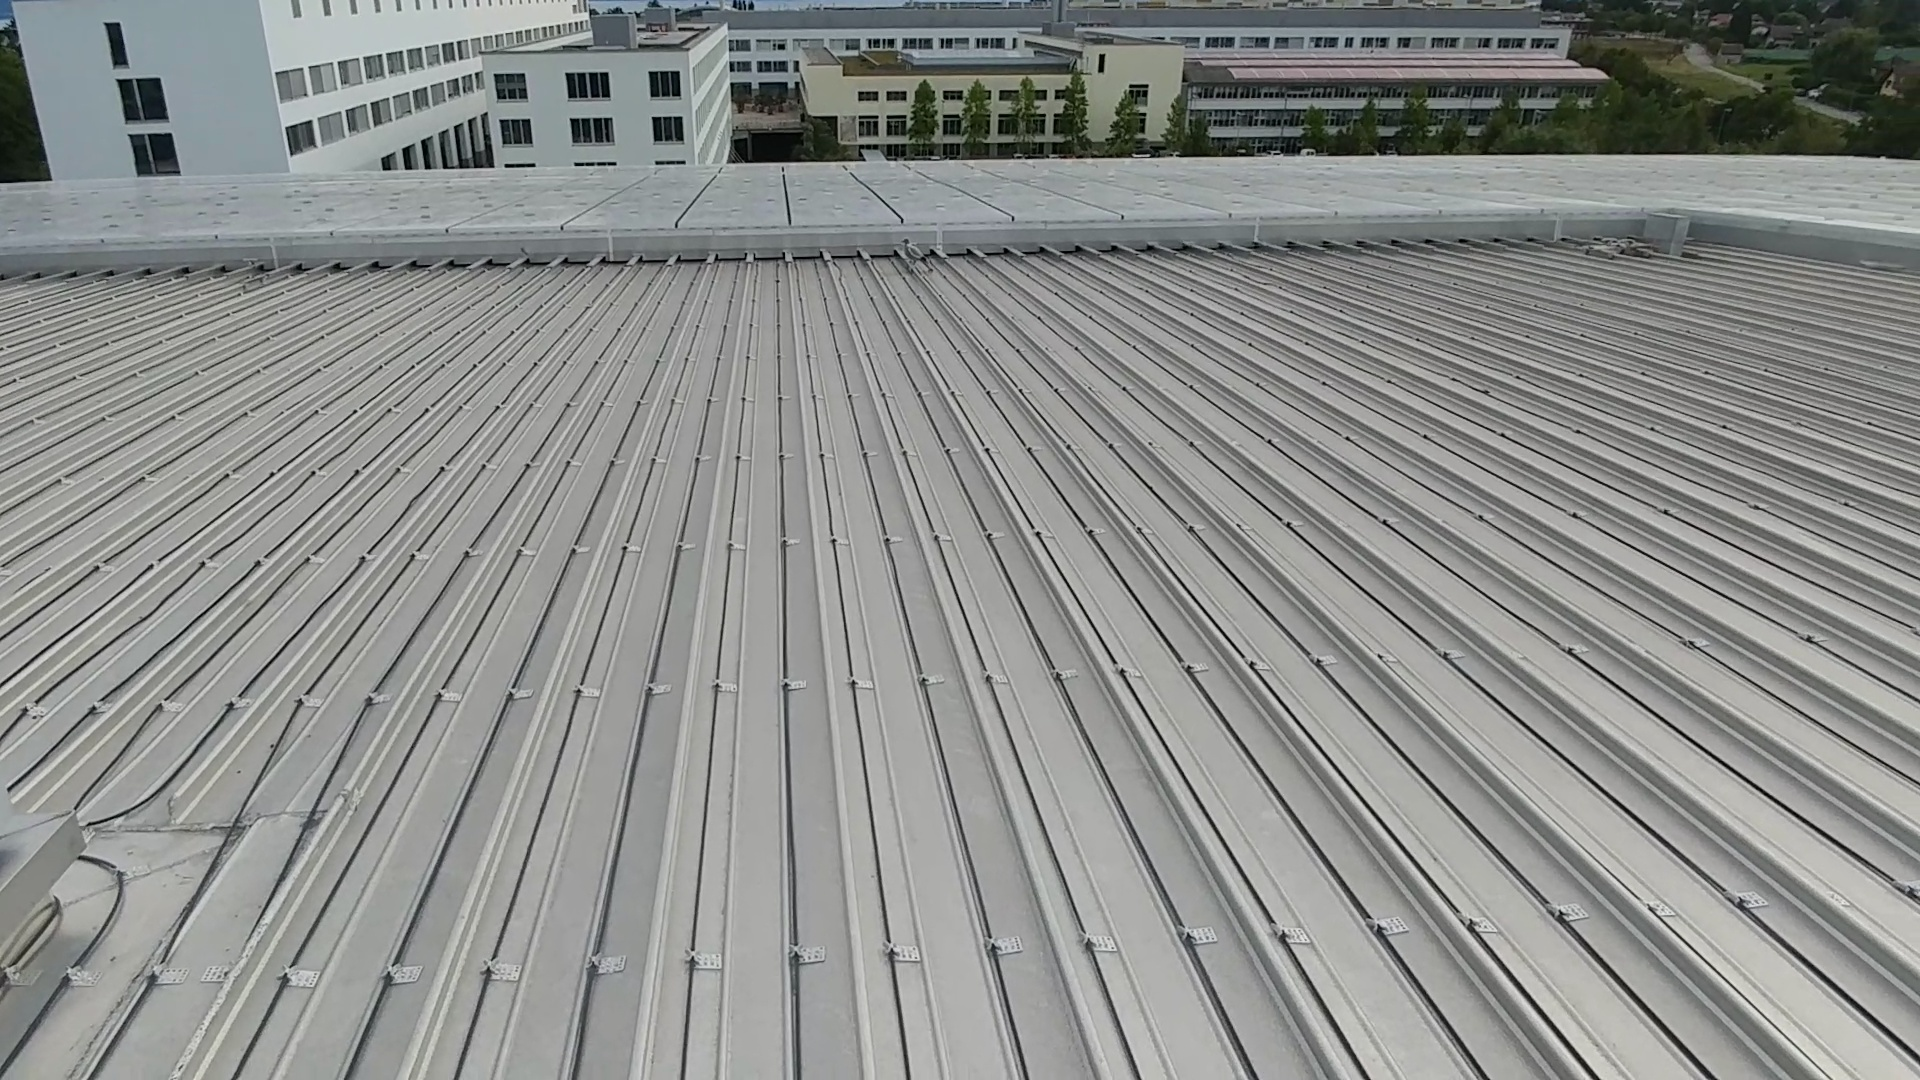Pigeon: (893, 233, 938, 270)
